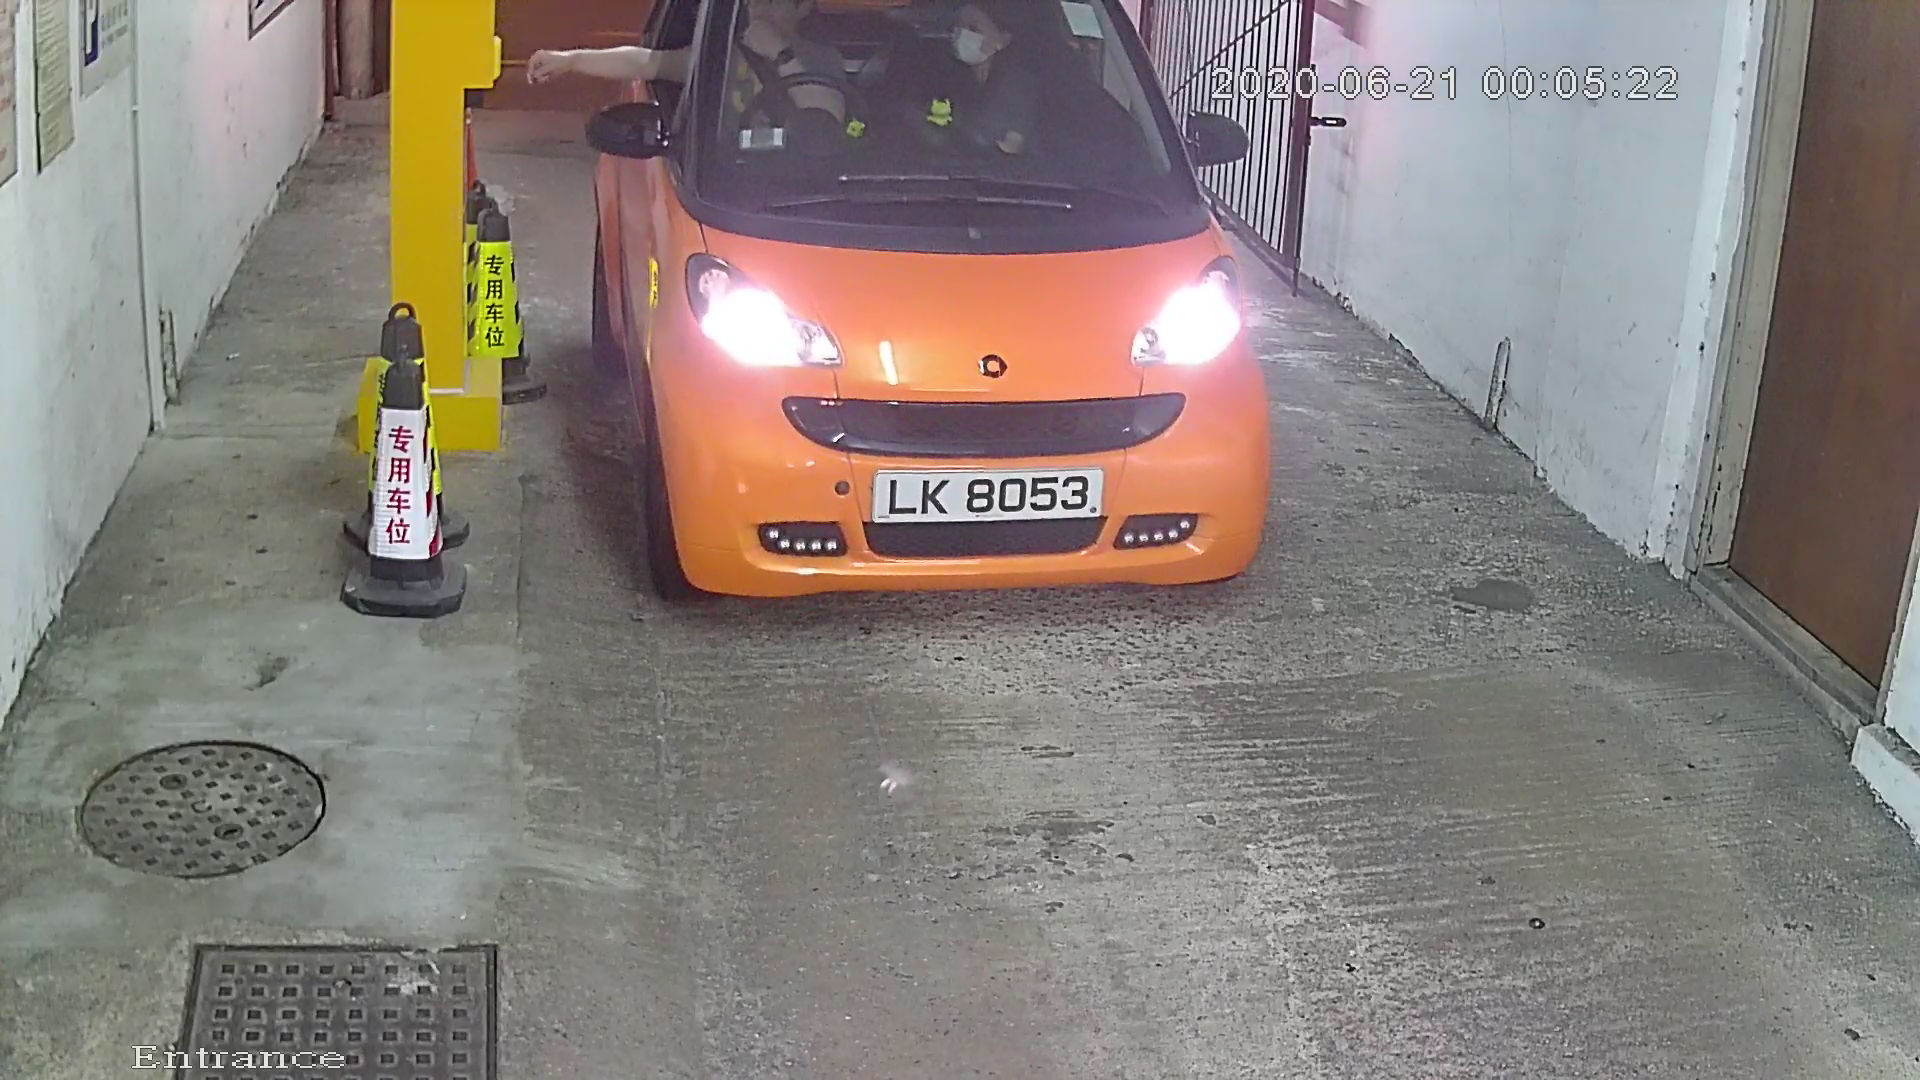privatecar: (574, 1, 1307, 669)
